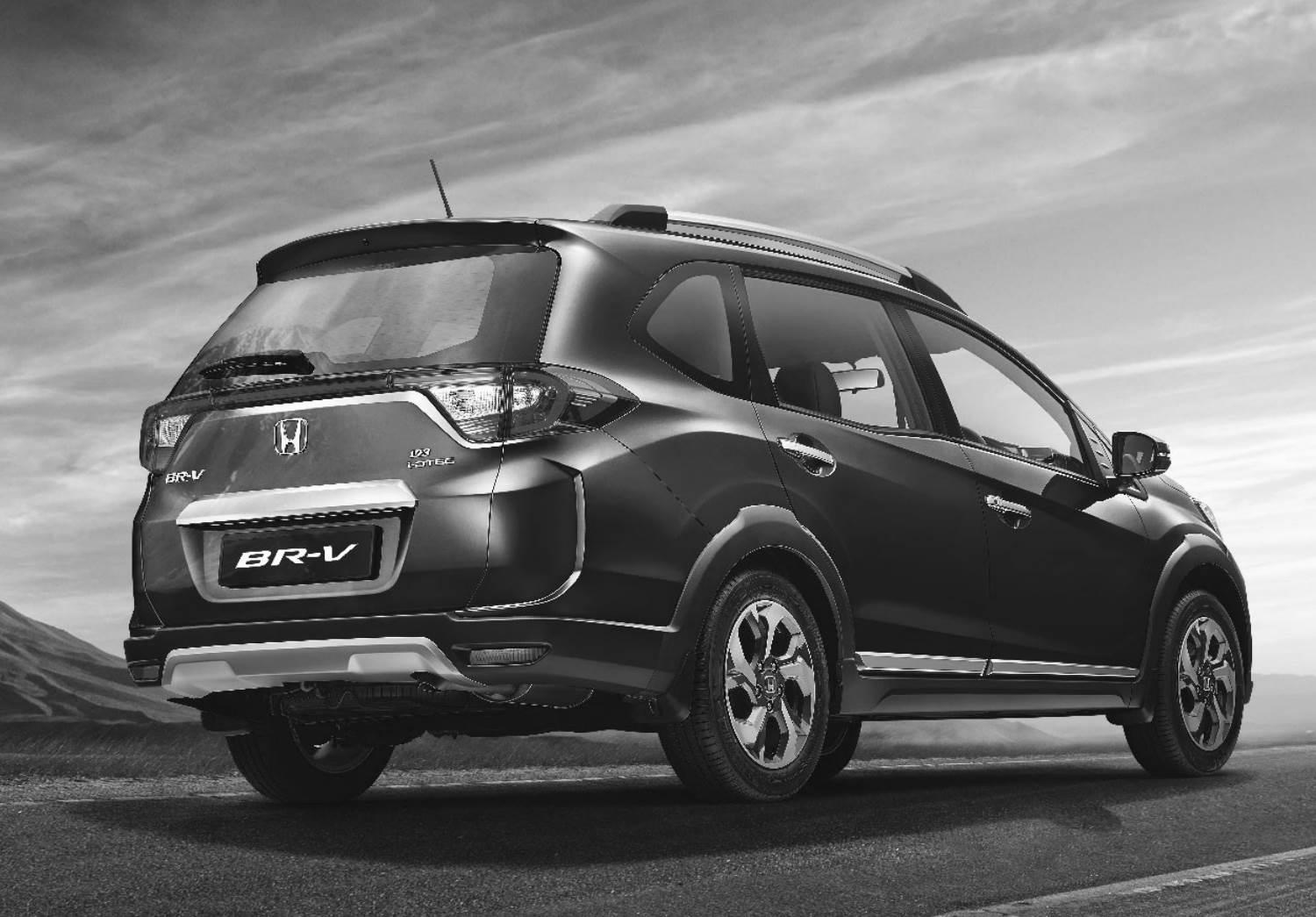Car boot: (131, 246, 563, 633)
Driver-s door - -F-R-: (914, 276, 1153, 676)
Fender - -F-R-: (1126, 439, 1241, 726)
Fender - -R-R-: (569, 322, 872, 749)
Passenger-s door - -R-R-: (726, 258, 997, 672)
Rear bumper: (122, 447, 733, 720)
Rear light - -L-: (111, 384, 218, 484)
Rear light - -R-: (389, 334, 657, 460)
Side bumper - -R-: (816, 638, 1161, 737)
Side mirror - -R-: (1088, 381, 1194, 508)
